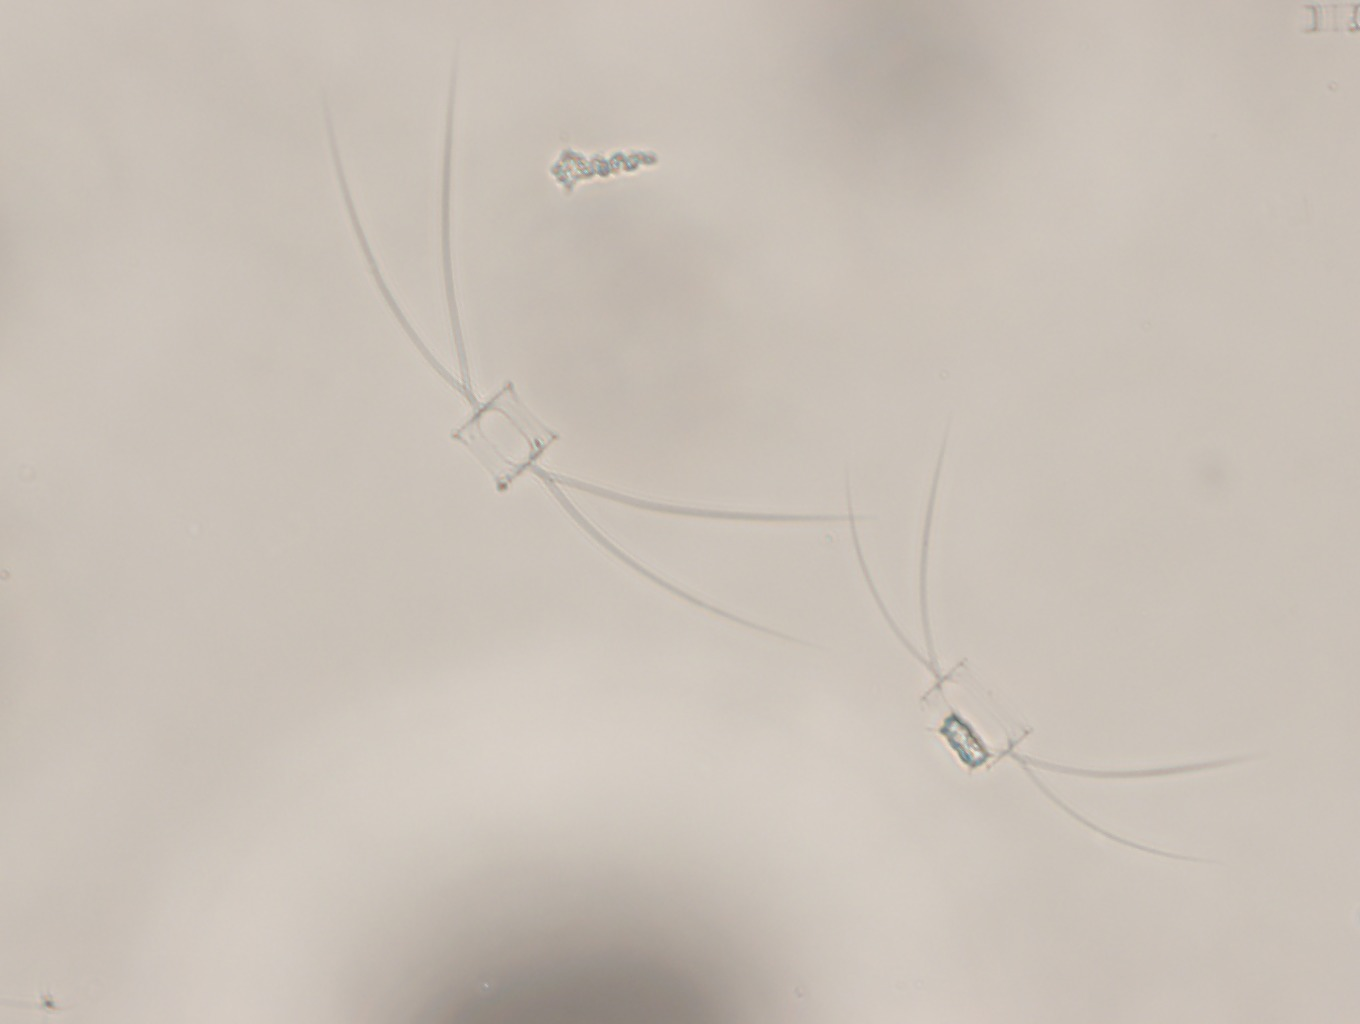chaetoceros: (312, 34, 883, 650), (826, 397, 1259, 878)
